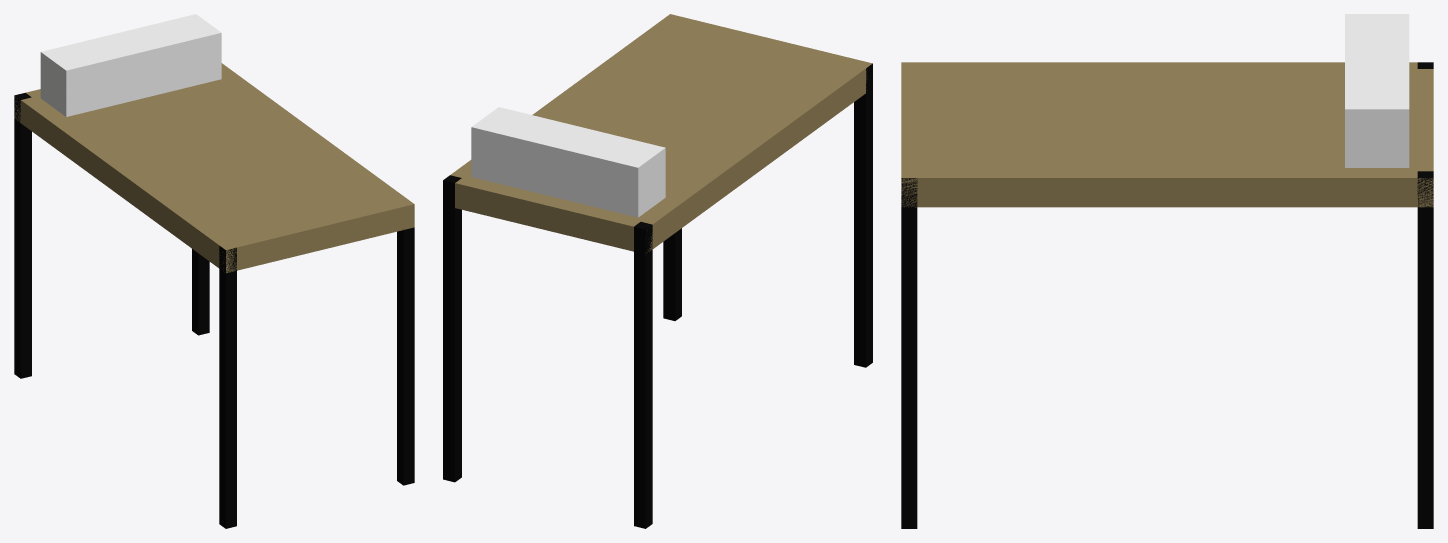
File: table.fbx
The picture shows the model from 3 angles, left to right: view 1: azimuth 30°, elevation 25°; view 2: azimuth 150°, elevation 25°; view 3: azimuth 270°, elevation 25°; orthographic projection. The views are drawn at different scales.
Visible parts, largest first — view 1: Cube.004, Cube.005, Cube.002, Cube, Cube.003, Cube.001; view 2: Cube.004, Cube.005, Cube, Cube.001, Cube.002, Cube.003; view 3: Cube.004, Cube.005, Cube.001, Cube.003.
Boxes of the visible parts, left/top/right/bottom form: Cube.004: left=14, top=63, right=414, bottom=273; Cube.005: left=40, top=14, right=221, bottom=116; Cube.002: left=219, top=245, right=236, bottom=528; Cube: left=14, top=92, right=31, bottom=378; Cube.003: left=397, top=227, right=414, bottom=485; Cube.001: left=192, top=249, right=209, bottom=335; Cube.004: left=450, top=14, right=872, bottom=252; Cube.005: left=471, top=107, right=665, bottom=217; Cube: left=634, top=222, right=652, bottom=528; Cube.001: left=443, top=175, right=461, bottom=482; Cube.002: left=854, top=63, right=872, bottom=367; Cube.003: left=663, top=228, right=681, bottom=320; Cube.004: left=901, top=62, right=1433, bottom=207; Cube.005: left=1345, top=14, right=1409, bottom=167; Cube.001: left=1417, top=171, right=1433, bottom=528; Cube.003: left=901, top=178, right=917, bottom=528.
Size of the model in its own units: 850 by 1400 by 1650.
